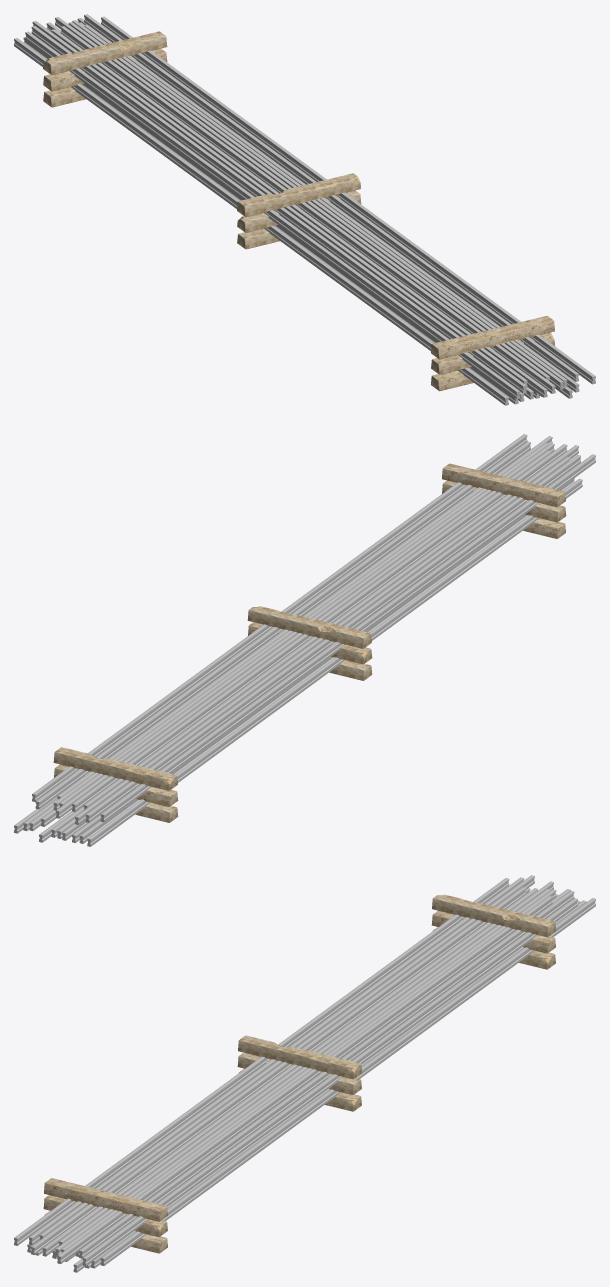
The model's file is SM_RailwayElements_Heap_01.FBX.
3 renders of one model, top to bottom at view 1: azimuth 30°, elevation 25°; view 2: azimuth 150°, elevation 25°; view 3: azimuth 330°, elevation 25°, orthographic.
Parts seen in each view (by area): view 1: SM_RailwayElements_Heap; view 2: SM_RailwayElements_Heap; view 3: SM_RailwayElements_Heap.
Boxes of the visible parts, x1=… form: SM_RailwayElements_Heap: x1=14, y1=14, x2=595, y2=405; SM_RailwayElements_Heap: x1=14, y1=434, x2=595, y2=846; SM_RailwayElements_Heap: x1=14, y1=875, x2=595, y2=1272.
Size of the model in its own units: 4.09 by 1.44 by 31.7.
